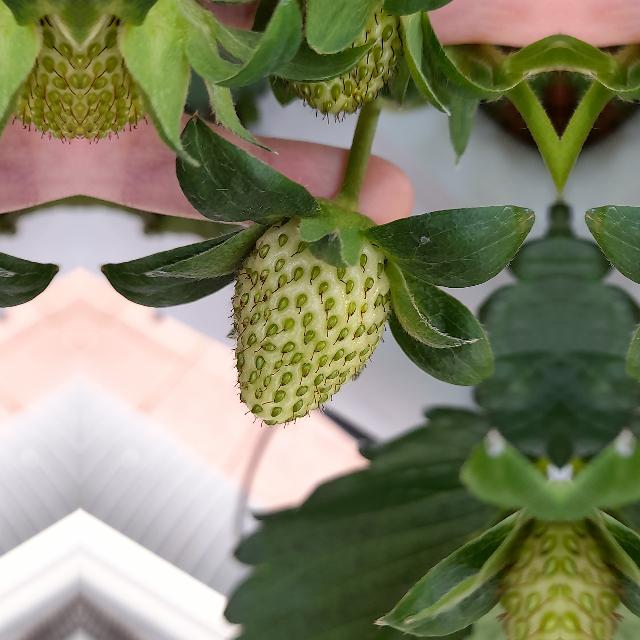Health_25: (227, 208, 393, 428), (282, 2, 398, 108)
